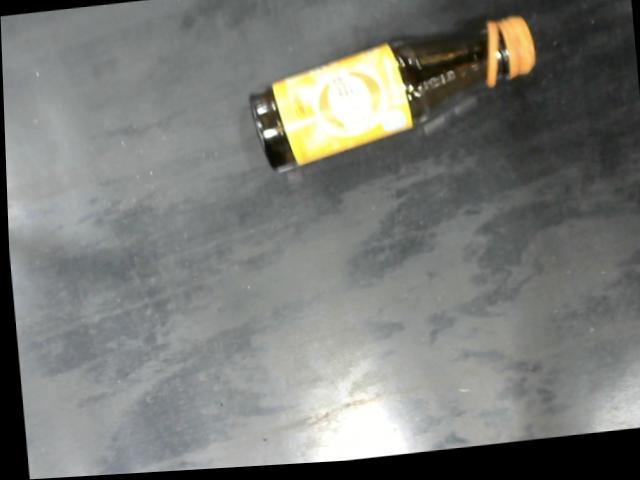glass: (248, 21, 536, 180)
